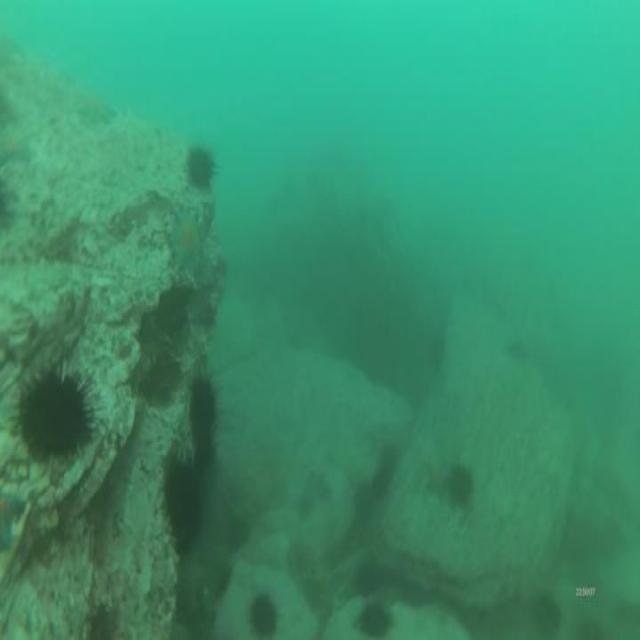echinus: (8, 352, 110, 474), (167, 458, 206, 555), (188, 374, 224, 456), (350, 596, 398, 640), (244, 586, 282, 640), (444, 460, 476, 517), (184, 143, 219, 195), (532, 588, 562, 640), (352, 477, 379, 528), (377, 438, 401, 480), (369, 464, 392, 506), (424, 335, 447, 375)
starfish: (166, 207, 208, 284)
